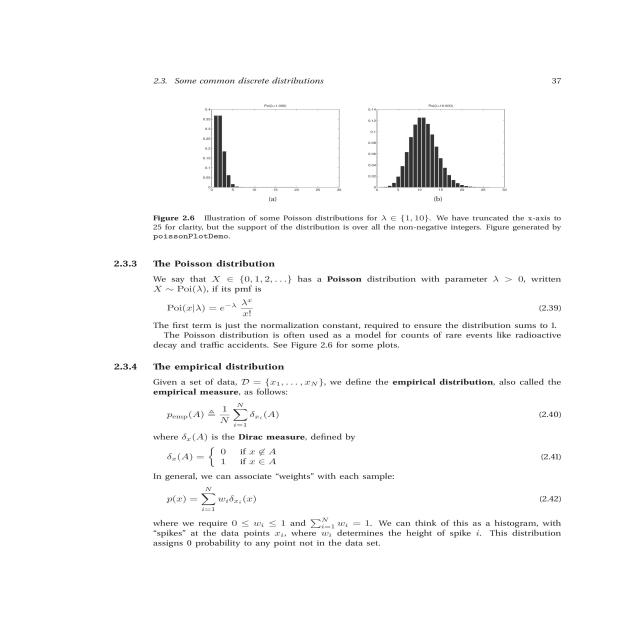diagram: (110, 92, 586, 249)
